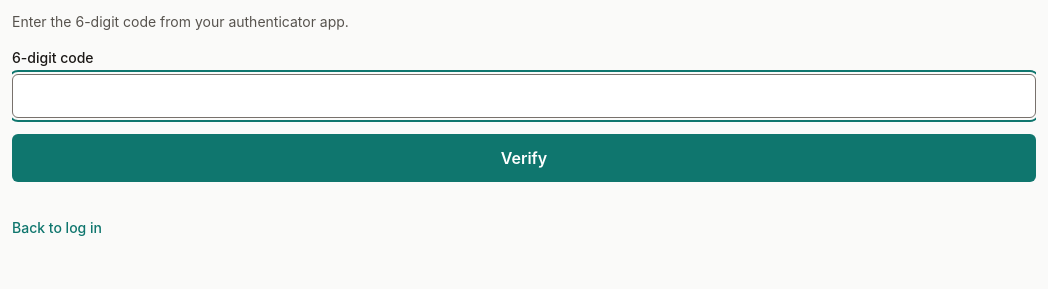
Test: VerifyLogin › explains a refused code and keeps the form
Type "000000" into the field labelled "6-digit code" at (524, 96), box top-left (12, 74), bottom-right (1036, 118)
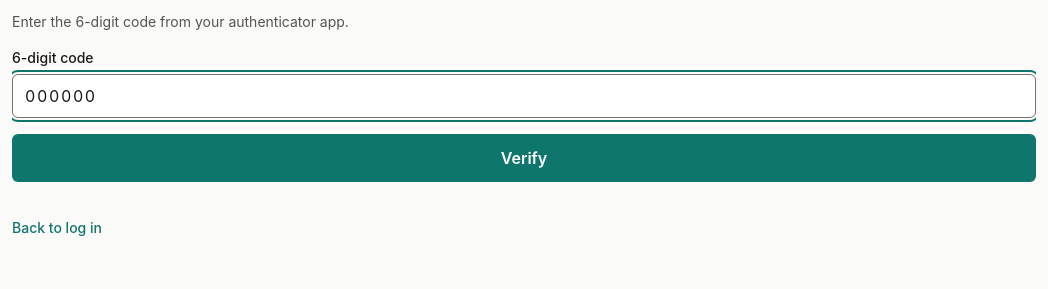
Click the button "Verify" at (524, 158), box top-left (12, 134), bottom-right (1036, 182)
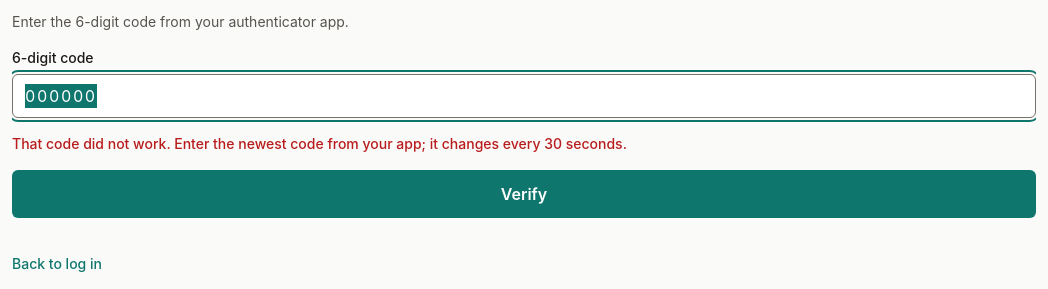
Check: the message shows "That code did not work. Enter the newest code from your app; it changes every 30 seconds.", box top-left (12, 135), bottom-right (627, 152)
